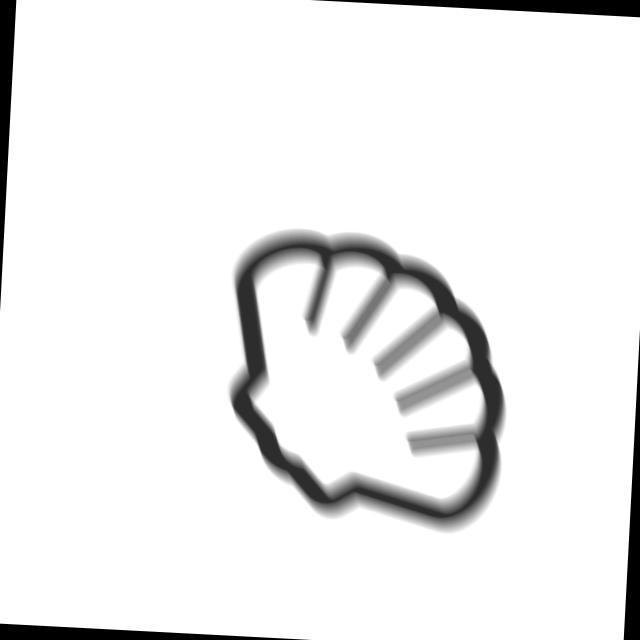shell: (214, 218, 524, 543)
